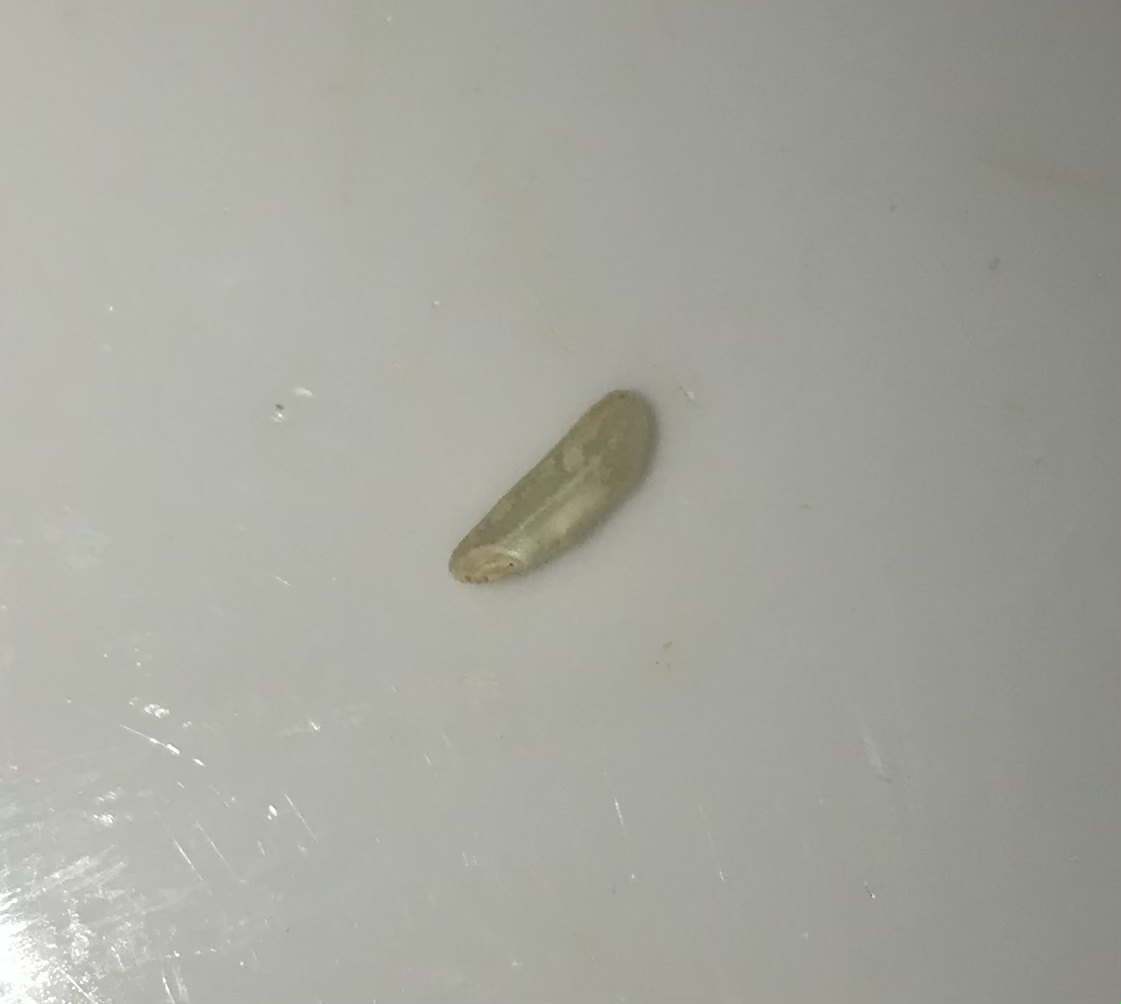Gao Lut Trang: (450, 370, 671, 597)
